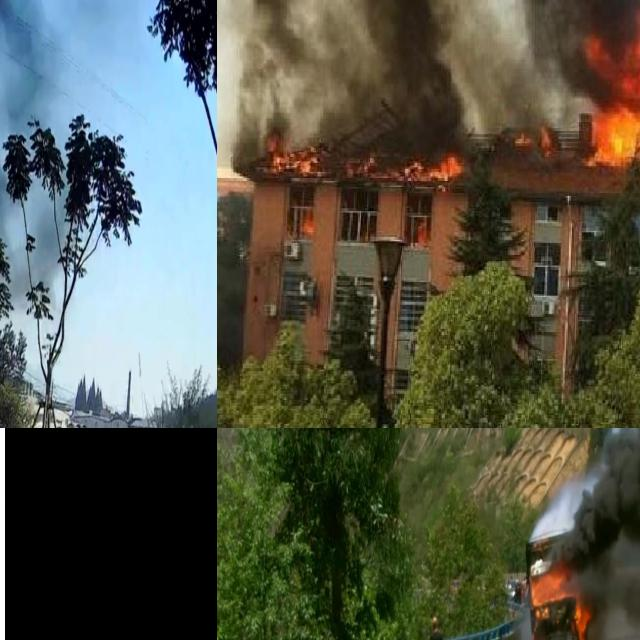fire: (583, 16, 640, 164), (519, 567, 590, 640), (266, 136, 320, 176), (409, 151, 465, 181), (516, 124, 556, 152), (411, 216, 429, 249), (297, 208, 316, 237)
smoke: (220, 0, 640, 110), (0, 0, 107, 376), (562, 428, 640, 630), (495, 0, 640, 48)
